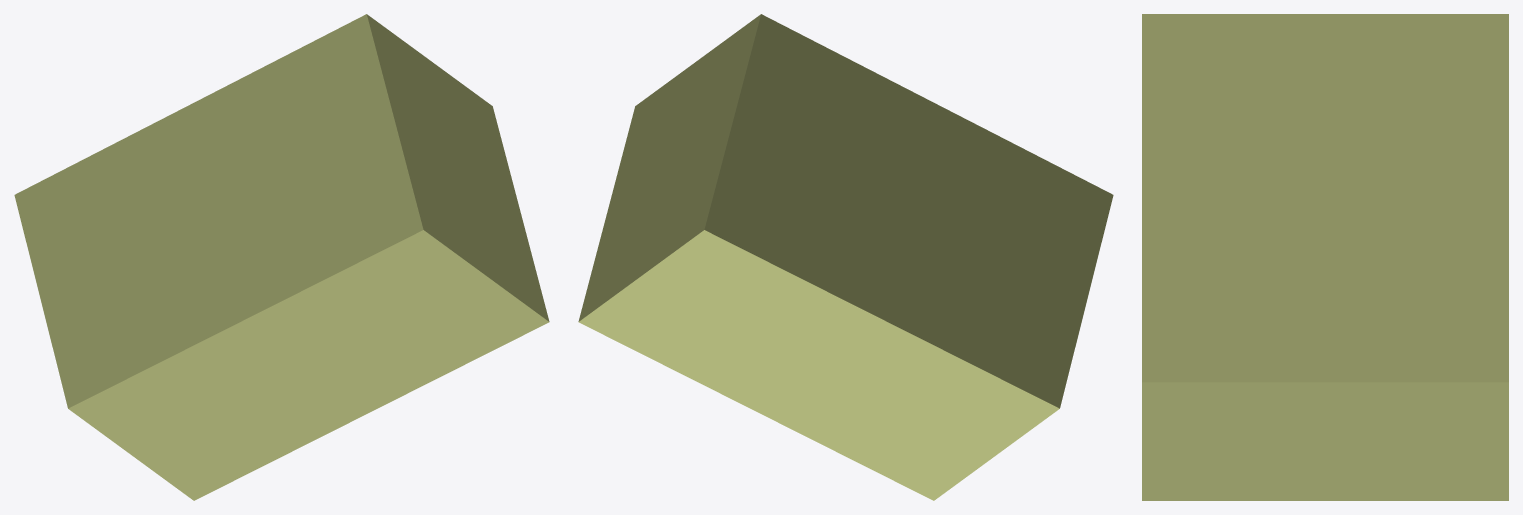
3 renders of one model, left to right at view 1: azimuth 30°, elevation 25°; view 2: azimuth 150°, elevation 25°; view 3: azimuth 270°, elevation 25°, orthographic. The views are drawn at different scales.
Visible parts, largest first — view 1: 0_1_0_0_0_1_1_2_0_0; view 2: 0_1_0_0_0_1_1_2_0_0; view 3: 0_1_0_0_0_1_1_2_0_0.
Boxes of the visible parts, x1,y1,x2,y2 form: 0_1_0_0_0_1_1_2_0_0: (14,14,549,500); 0_1_0_0_0_1_1_2_0_0: (578,14,1113,500); 0_1_0_0_0_1_1_2_0_0: (1142,14,1508,500).
Size of the model in its own units: 16.87 by 12.68 by 9.
